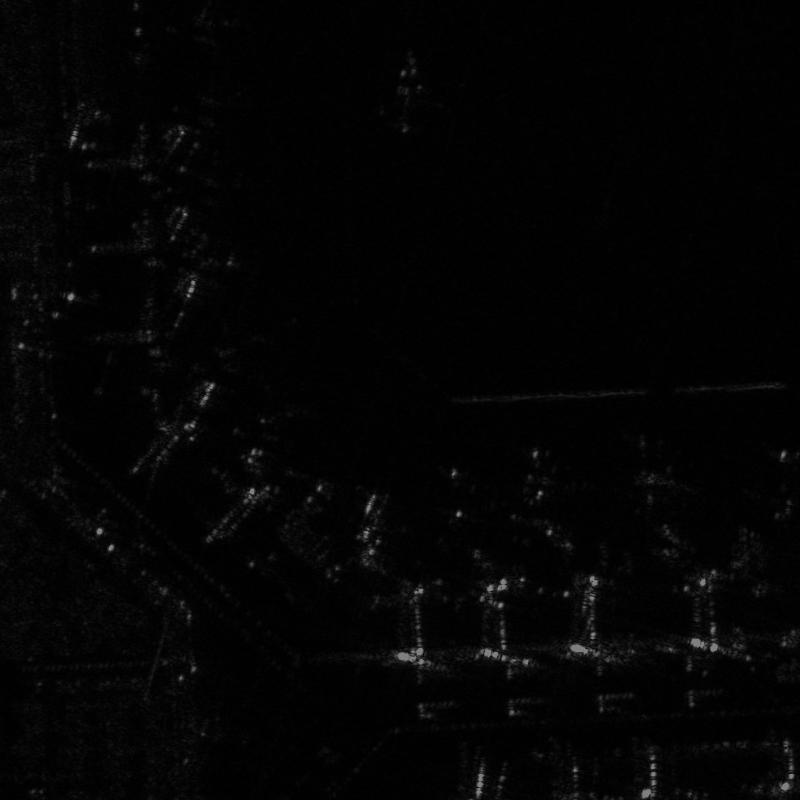A220: (434, 464, 502, 563)
A320/321: (622, 441, 704, 518)
other: (515, 448, 600, 560), (377, 51, 445, 138)
